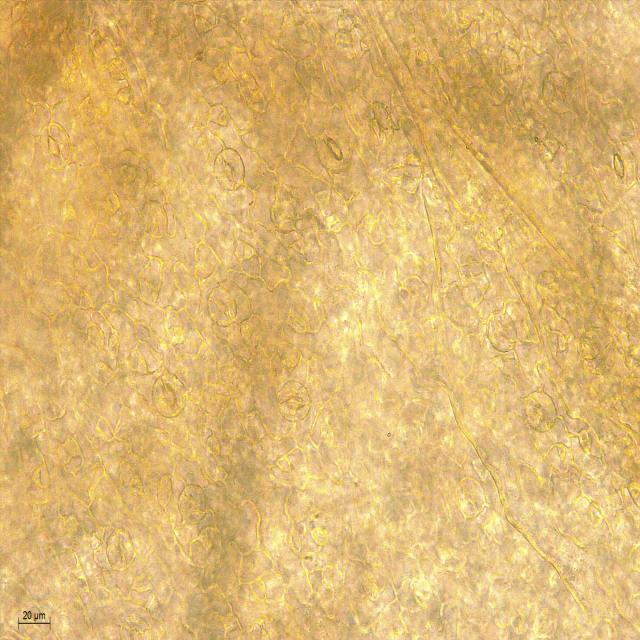Stomata: (314, 124, 354, 176), (600, 138, 639, 190), (360, 99, 396, 149), (150, 372, 188, 419), (541, 70, 578, 118), (38, 121, 72, 171), (276, 379, 312, 424), (212, 146, 246, 193), (212, 146, 246, 193), (524, 389, 558, 433), (485, 309, 519, 353), (176, 482, 208, 528), (206, 284, 239, 328), (104, 528, 136, 573), (455, 476, 487, 518), (397, 272, 430, 312), (140, 198, 170, 240)
